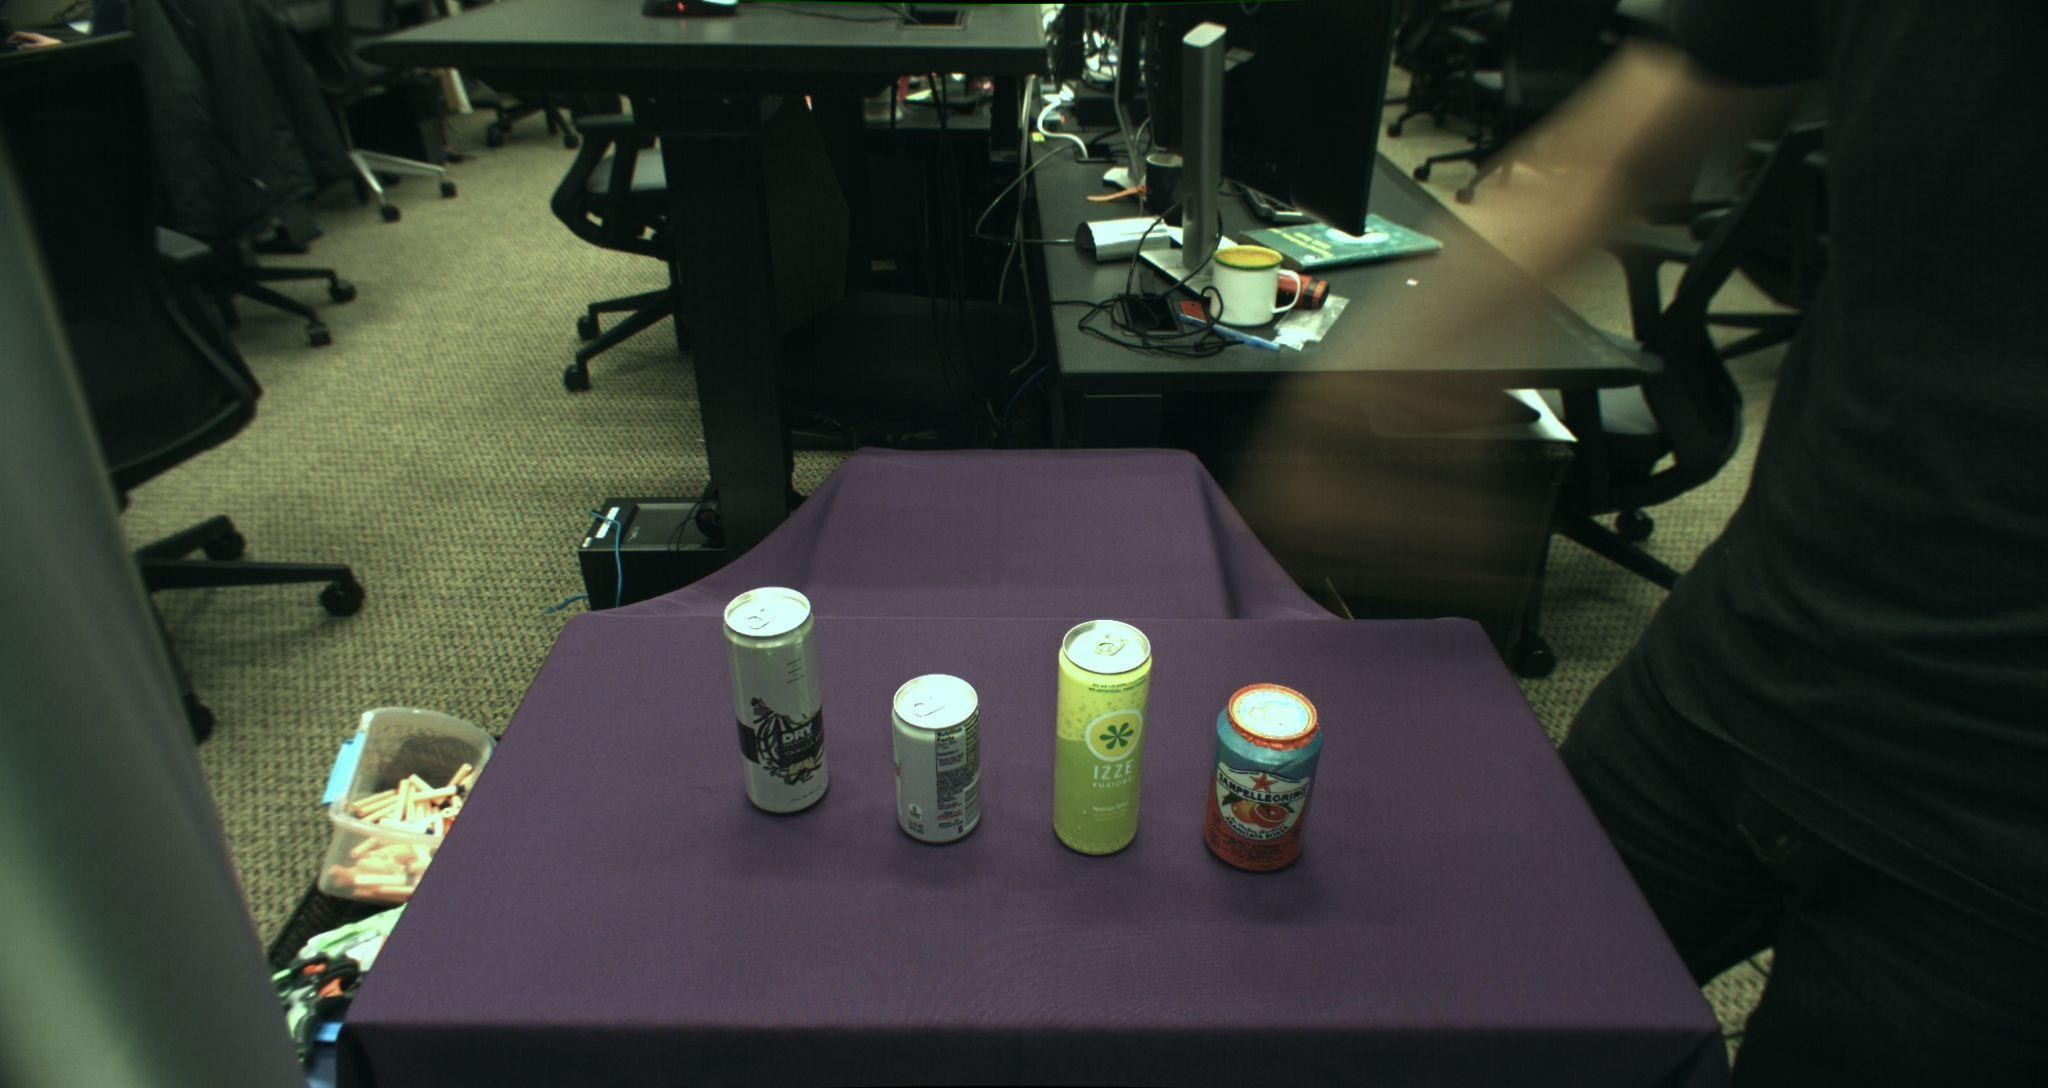can_diet_coke_small: (890, 673, 982, 843)
can_dry_sparkling_vanilla_bean: (723, 585, 828, 814)
can_izze_fusions_lemon_lime: (1052, 618, 1151, 856)
can_sanpellegrino_blood_orange: (1201, 682, 1322, 873)
